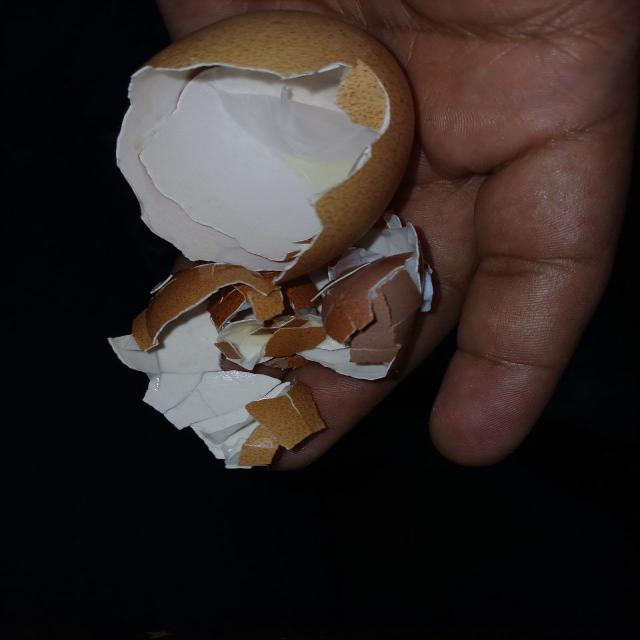organic: (108, 10, 431, 468)
